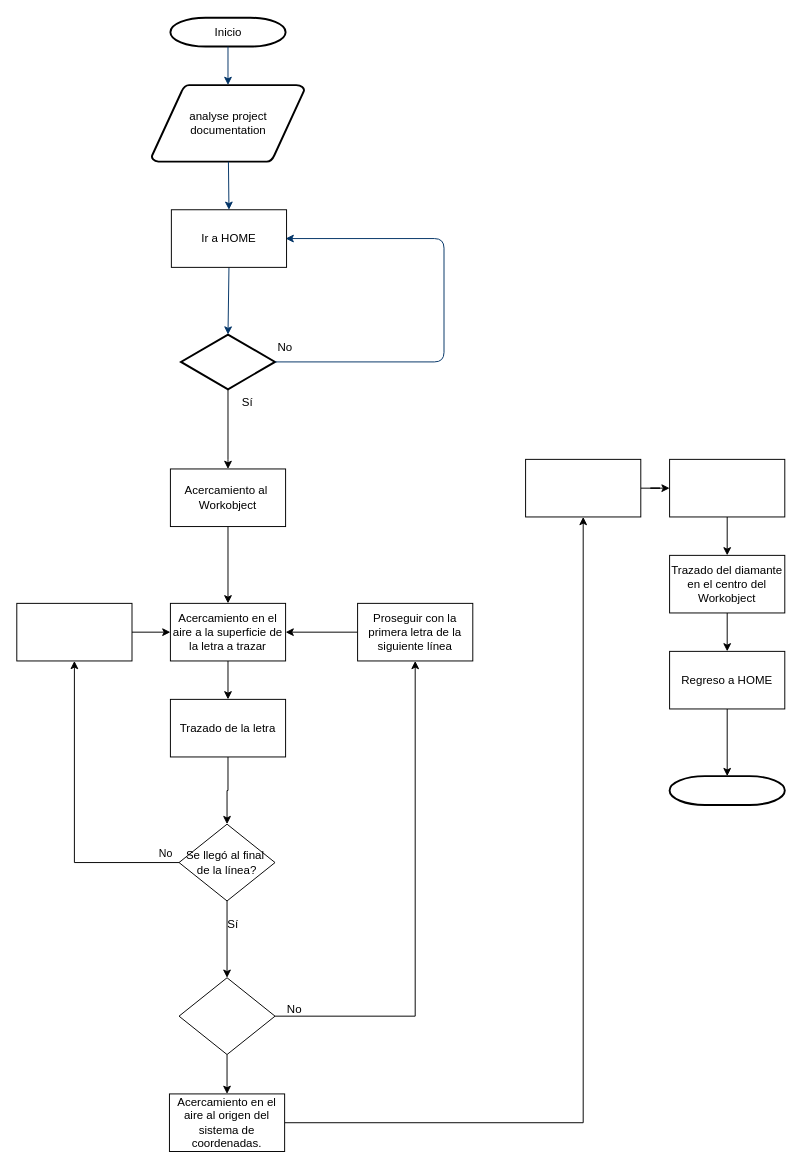
The diagram is 803 pixels wide and 1168 high, and some of its shapes have lost their labels. Here are the shapes that lost their labels. From the top down, the centre of each, then its label:
At point (228, 361): "¿Está en HOME?".
At point (583, 487): "Trazado del Octágono que encapsula el diseño".
At point (727, 487): "Acercamiento en el aire al centro del Workobject".
At point (74, 631): "Proseguir con la siguiente letra de la línea".
At point (726, 790): "Fin".
At point (226, 1016): "Se completó la última línea?".
